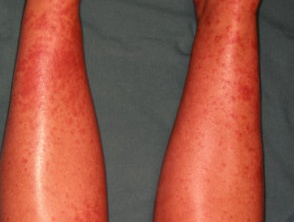SJS-TEN: (197, 0, 287, 193), (0, 0, 98, 154)
